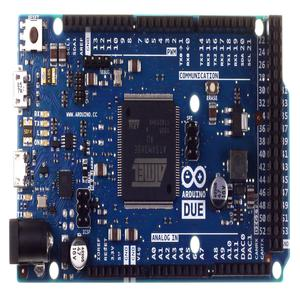duino: (15, 5, 289, 287)
